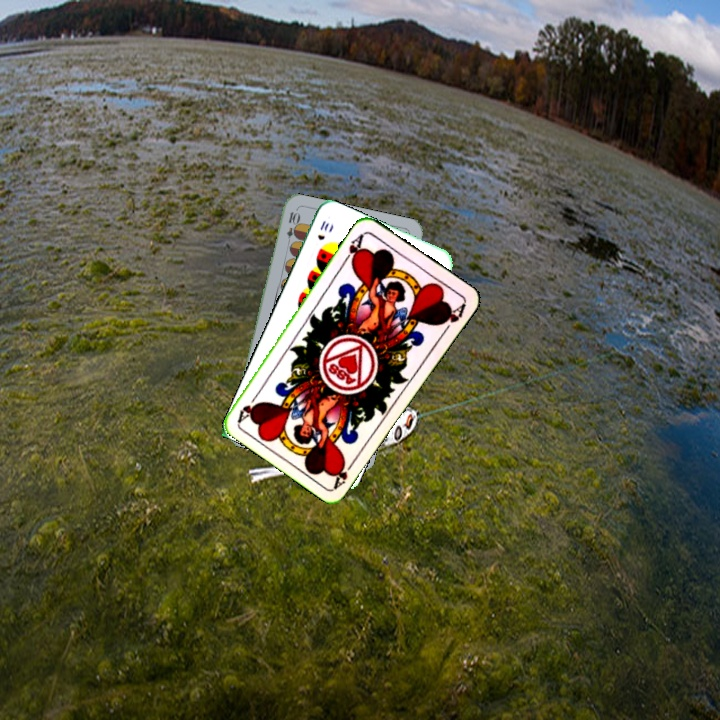E10: (282, 208, 300, 248)
HA: (339, 229, 367, 268), (330, 454, 359, 490)
S10: (313, 216, 332, 243)
